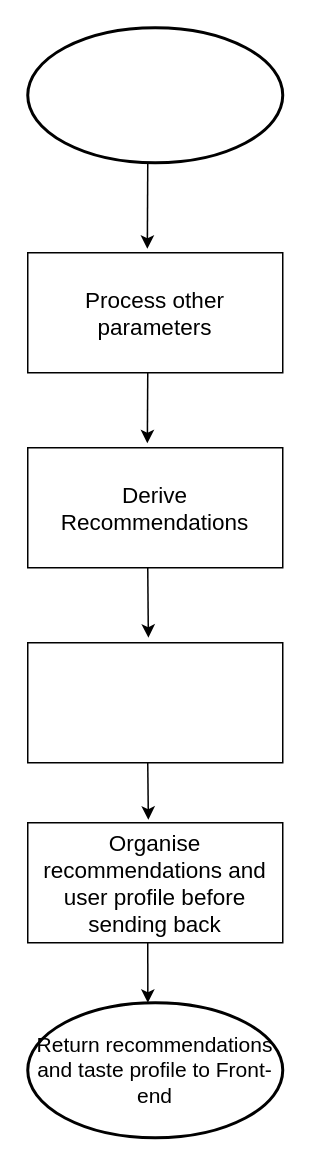
Some shapes in this 309 by 1164 pixel diagram are drawn without their labels. Here are the shapes that lost their labels. From the top down, the centre of each, then its label:
At point (155, 95): "Signal Received".
At point (154, 702): "Find tracks on Spotify to prepare for playlist creation".
